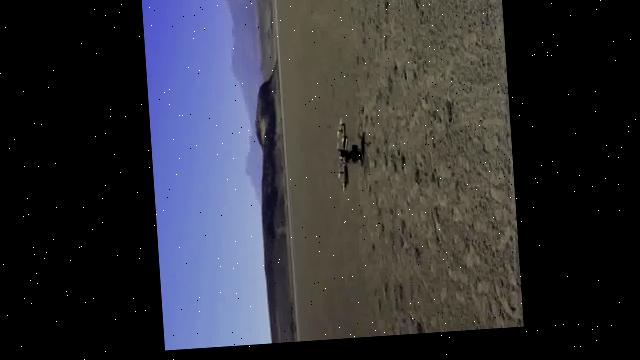drone: (303, 106, 386, 211)
